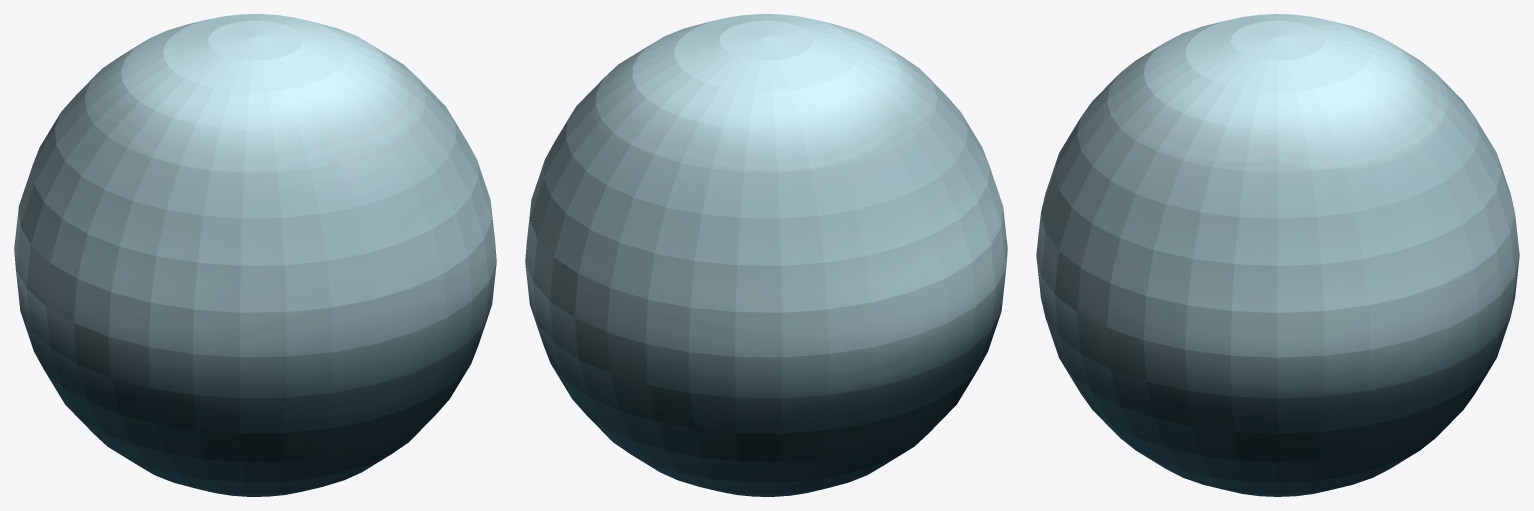
The model's file is FISH_ARMADO_v002.fbx.fbx.
3 renders of one model, left to right at view 1: azimuth 30°, elevation 25°; view 2: azimuth 150°, elevation 25°; view 3: azimuth 270°, elevation 25°, orthographic.
Parts seen in each view (by area): view 1: Sphere; view 2: Sphere; view 3: Sphere.
Part boxes in pixels (<box>): Sphere: <box>14,14,496,496</box>; Sphere: <box>525,14,1007,496</box>; Sphere: <box>1036,14,1519,496</box>.
Size of the model in its own units: 2820 by 2820 by 2820.
